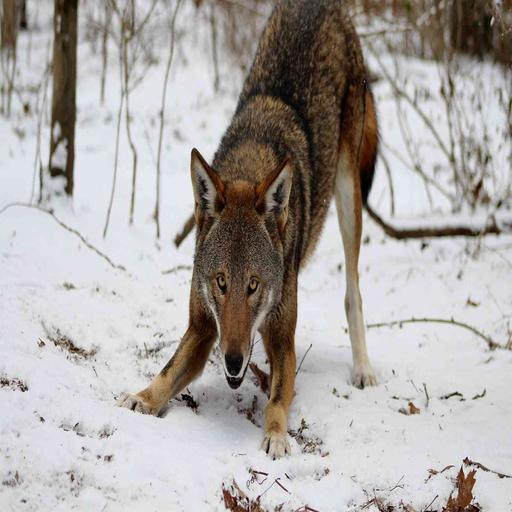Wolf: (126, 0, 383, 465)
